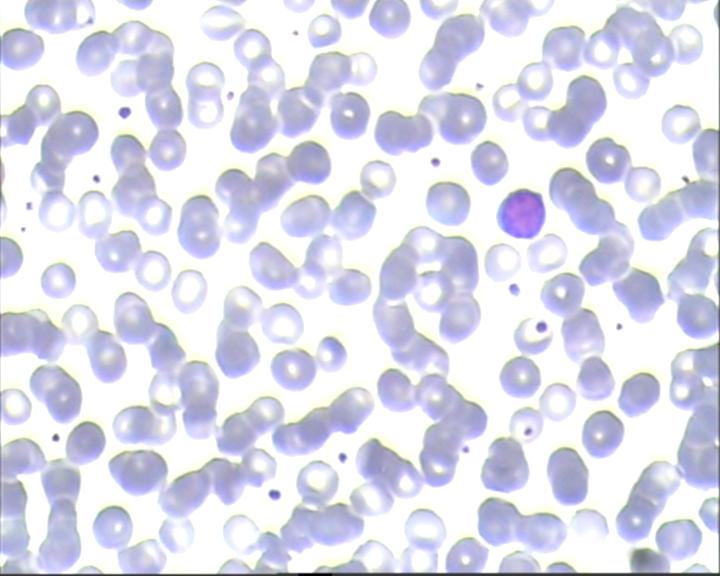lymp: (495, 184, 548, 238)
